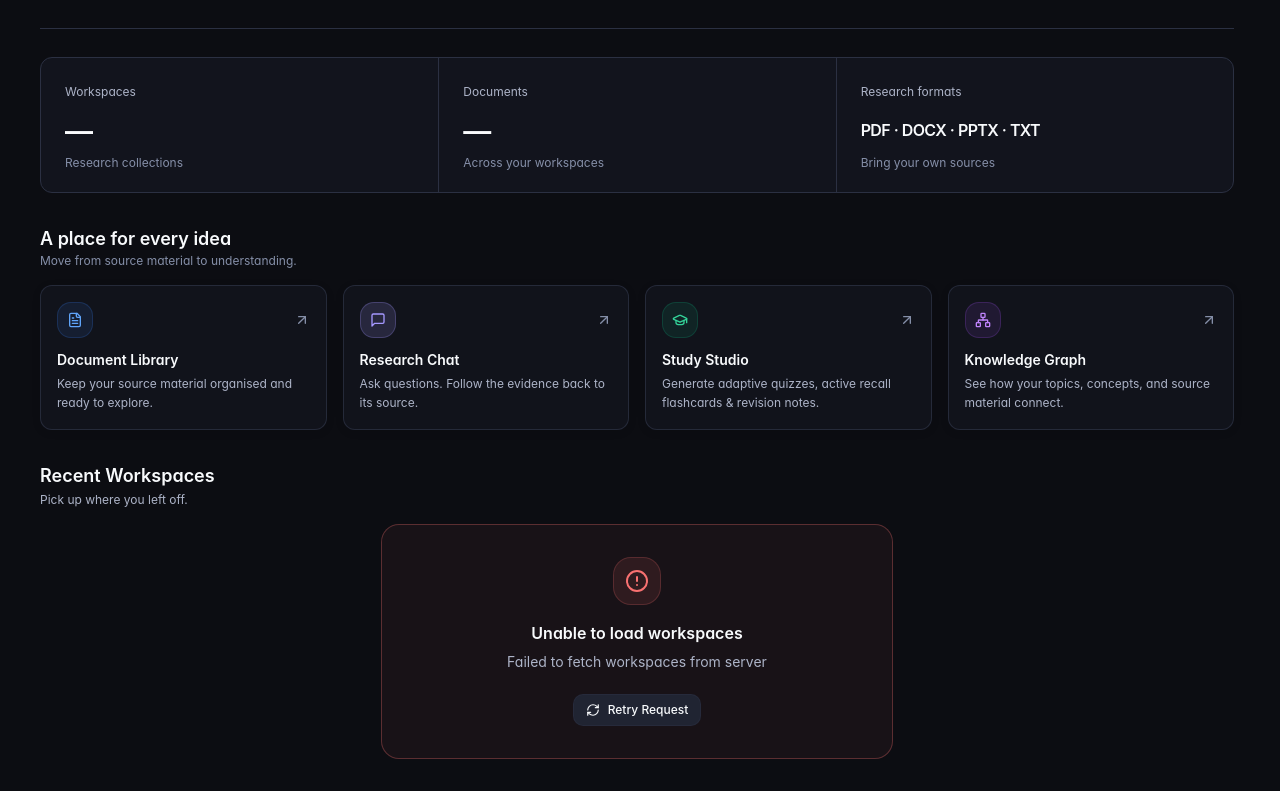
Test: DashboardOverviewPage › renders error state with retry button when workspace API fails
The width and height of the screenshot is (1280, 791).
(page scrolled)
Expected: the heading "Unable to load workspaces" is shown, 531,621 -> 743,645
Expected: the text "Failed to fetch workspaces from server" is shown, 507,651 -> 767,674
Click the button "Retry Request".
click(637, 710)  # box 573,694 -> 701,726
(page scrolled)
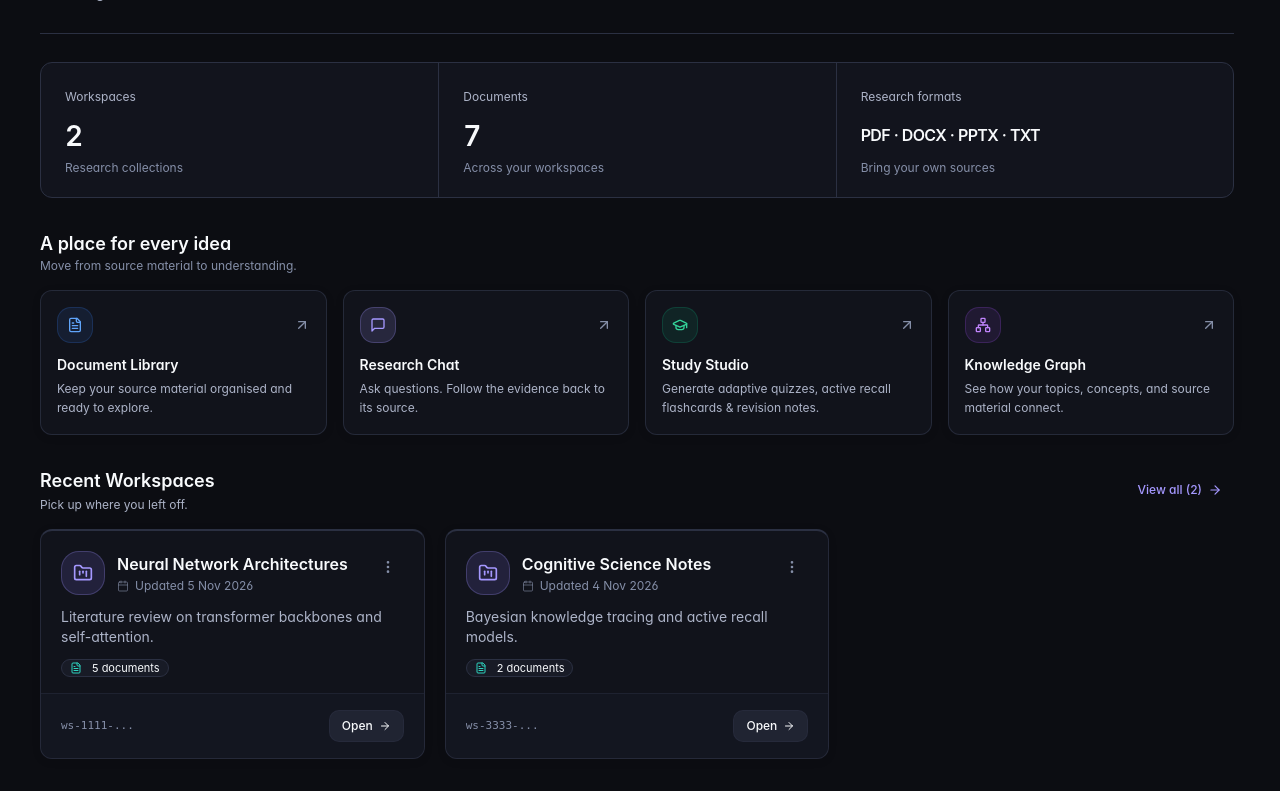
Result: the link "Neural Network Architectures" is shown at 117,552 -> 348,576
